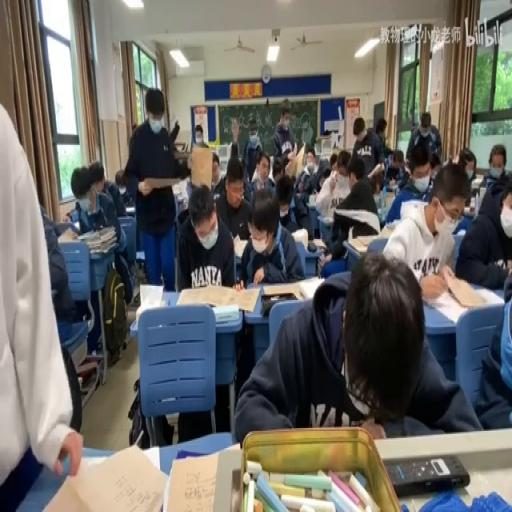calculator: (38, 442, 166, 511), (420, 270, 502, 324), (162, 449, 228, 512), (54, 314, 88, 357), (262, 278, 312, 302), (190, 147, 212, 189), (139, 282, 166, 307), (172, 176, 190, 202), (232, 234, 248, 258), (348, 235, 373, 250), (290, 227, 307, 249), (378, 220, 398, 238), (214, 314, 240, 324), (308, 238, 326, 250), (470, 175, 484, 189), (318, 214, 334, 224), (462, 205, 474, 215), (454, 228, 466, 238), (308, 194, 316, 206), (124, 205, 134, 213)
paper: (232, 255, 477, 442), (1, 96, 80, 510), (176, 180, 234, 440), (125, 85, 190, 290), (382, 158, 469, 283), (70, 160, 134, 306), (454, 152, 512, 289), (315, 156, 377, 272), (239, 186, 303, 286), (214, 151, 252, 240), (404, 111, 442, 171), (348, 116, 382, 180), (298, 148, 331, 209), (272, 100, 297, 174), (39, 200, 73, 239), (249, 151, 275, 193), (384, 149, 409, 189), (70, 199, 92, 235), (459, 145, 475, 182), (275, 181, 293, 212), (114, 168, 130, 202), (191, 122, 210, 150), (489, 144, 506, 170), (368, 170, 384, 194), (336, 149, 350, 175), (169, 118, 180, 142), (374, 117, 388, 135), (228, 141, 238, 161), (305, 148, 315, 166), (248, 122, 258, 136), (330, 154, 336, 169), (131, 122, 137, 132)
person: (385, 452, 470, 496)
